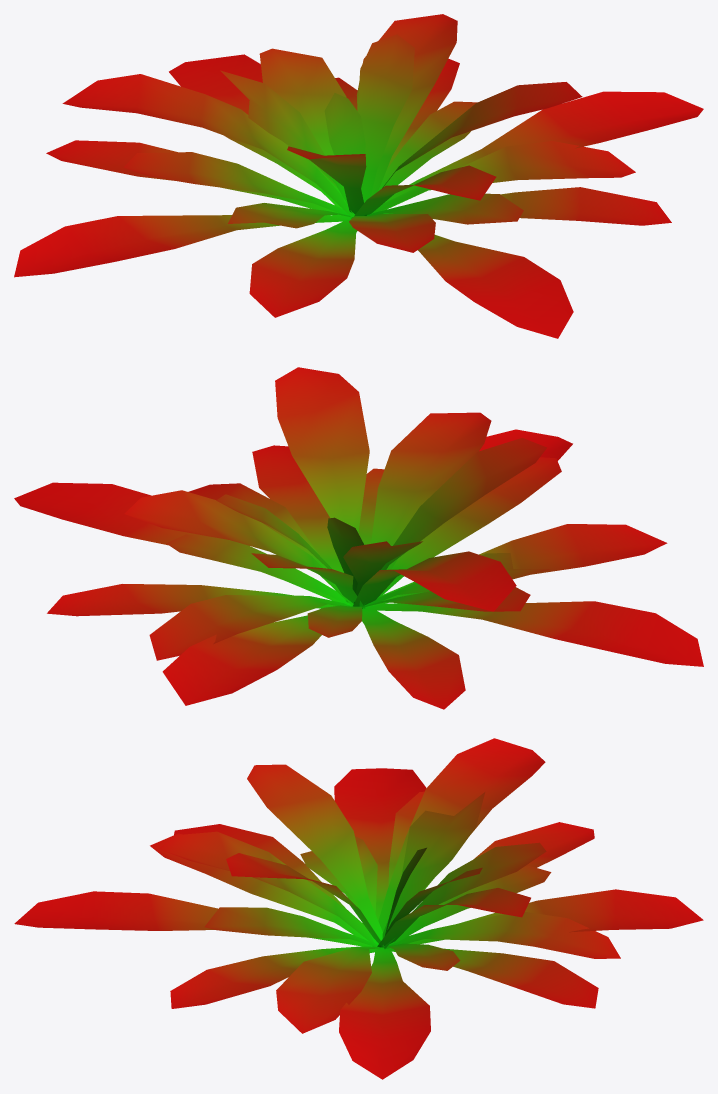
File: Var15_LOD0.fbx
The picture shows the model from 3 angles, top to bottom: view 1: azimuth 30°, elevation 25°; view 2: azimuth 150°, elevation 25°; view 3: azimuth 270°, elevation 25°; orthographic projection. The views are drawn at different scales.
Visible parts, largest first — view 1: _bum8_Var15_LOD0; view 2: _bum8_Var15_LOD0; view 3: _bum8_Var15_LOD0.
Part boxes in pixels (<box>): _bum8_Var15_LOD0: <box>14,14,703,338</box>; _bum8_Var15_LOD0: <box>14,367,703,709</box>; _bum8_Var15_LOD0: <box>14,738,703,1079</box>.
Size of the model in its own units: 20.35 by 4.36 by 19.05.
